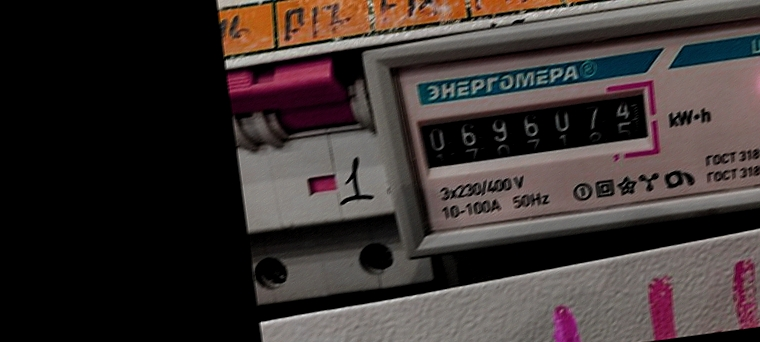0: (427, 126, 449, 153), (552, 106, 572, 134)
4: (613, 97, 632, 121)
5: (616, 120, 635, 142)
6: (520, 110, 542, 139), (458, 121, 479, 148)
7: (584, 103, 603, 131)
9: (490, 116, 509, 143)
screen: (406, 77, 667, 190)
